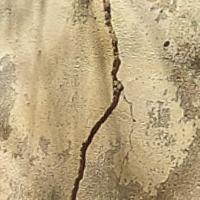crack: (58, 0, 142, 199)
